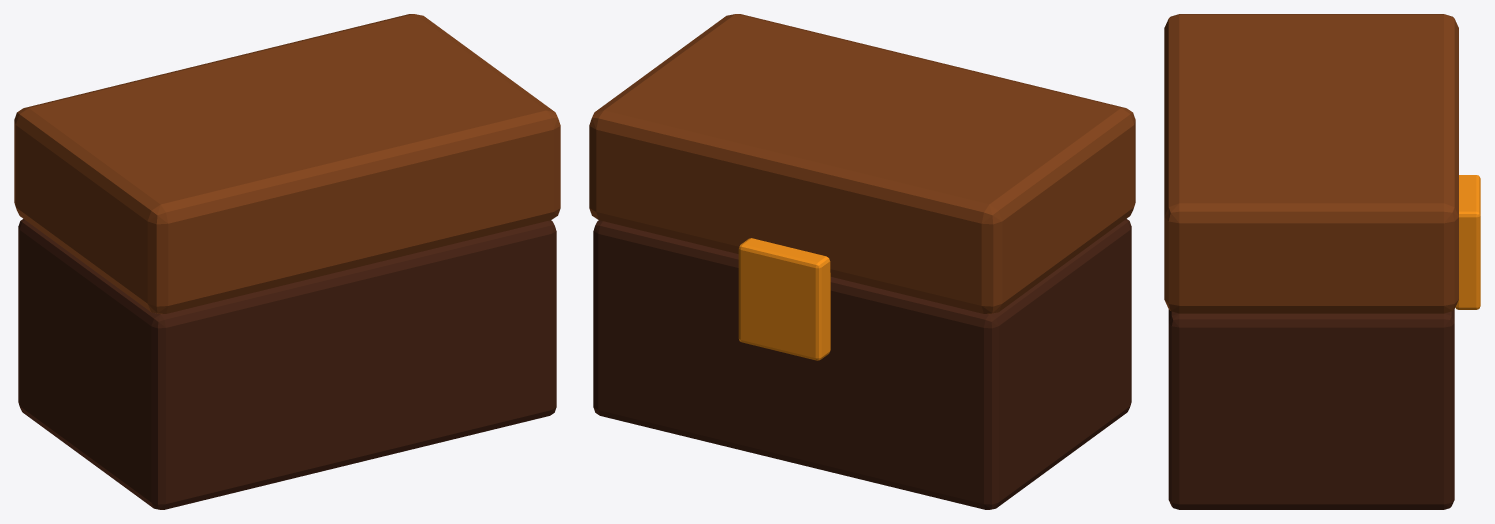
File: arcane_loot_chest_lod1.obj
3 views of the same model, side by side, from view 1: azimuth 30°, elevation 25°; view 2: azimuth 150°, elevation 25°; view 3: azimuth 270°, elevation 25° (orthographic).
Visible parts, largest first — view 1: arpg_chest_lod1_lid_M_wood, arpg_chest_lod1_body_M_brown; view 2: arpg_chest_lod1_lid_M_wood, arpg_chest_lod1_body_M_brown, arpg_chest_lod1_lock_M_gold; view 3: arpg_chest_lod1_lid_M_wood, arpg_chest_lod1_body_M_brown, arpg_chest_lod1_lock_M_gold.
Boxes of the visible parts, x1,y1,x2,y2 form: arpg_chest_lod1_lid_M_wood: (14, 14, 560, 314); arpg_chest_lod1_body_M_brown: (18, 219, 556, 509); arpg_chest_lod1_lid_M_wood: (589, 14, 1135, 314); arpg_chest_lod1_body_M_brown: (593, 219, 1131, 509); arpg_chest_lod1_lock_M_gold: (738, 238, 830, 360); arpg_chest_lod1_lid_M_wood: (1164, 14, 1458, 313); arpg_chest_lod1_body_M_brown: (1168, 309, 1454, 509); arpg_chest_lod1_lock_M_gold: (1455, 175, 1480, 309).
Size of the model in its own units: 1.1 by 0.78 by 0.73.
